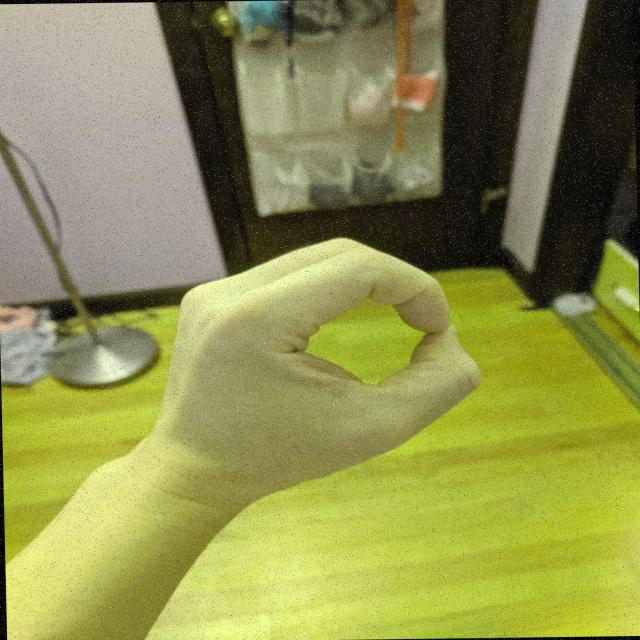O: (144, 232, 492, 505)
